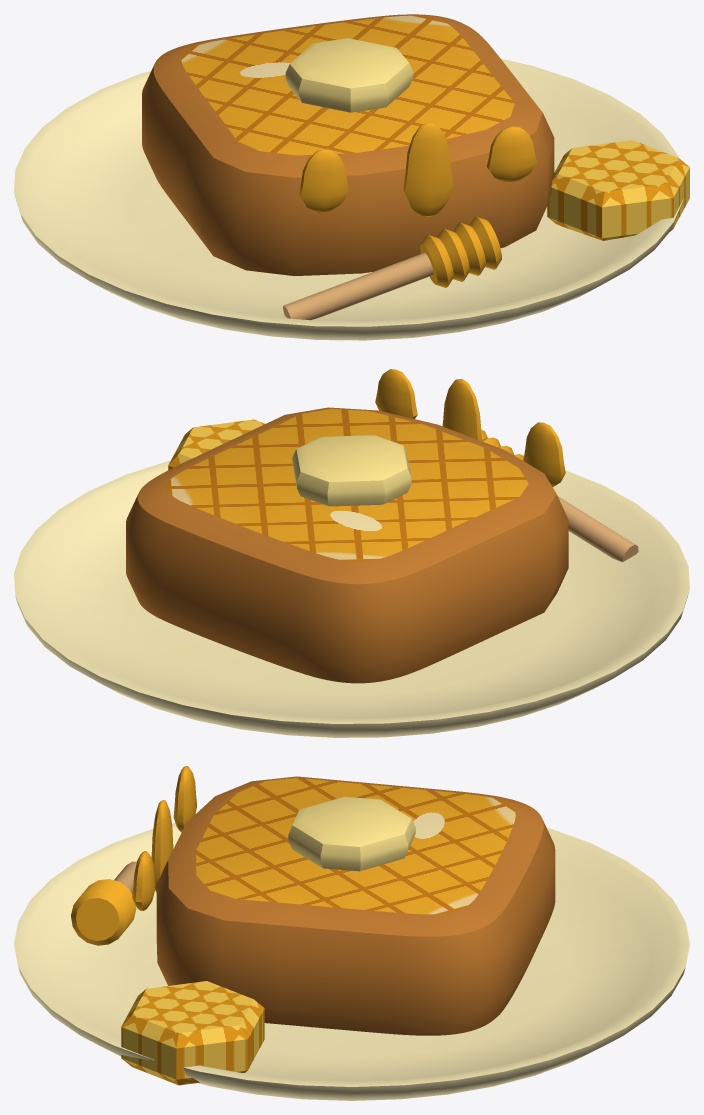
The model's file is HoneyToast.glb.
3 renders of one model, top to bottom at view 1: azimuth 30°, elevation 25°; view 2: azimuth 150°, elevation 25°; view 3: azimuth 270°, elevation 25°, orthographic.
Parts seen in each view (by area): view 1: HoneyToast; view 2: HoneyToast; view 3: HoneyToast.
Part boxes in pixels (bbox=[...]): HoneyToast: bbox=[14, 14, 689, 340]; HoneyToast: bbox=[14, 369, 689, 737]; HoneyToast: bbox=[14, 766, 689, 1100].
Bounding box in the file's own units: 1.53 × 0.461 × 1.53.
Materials: 7 (7 with a texture image).
